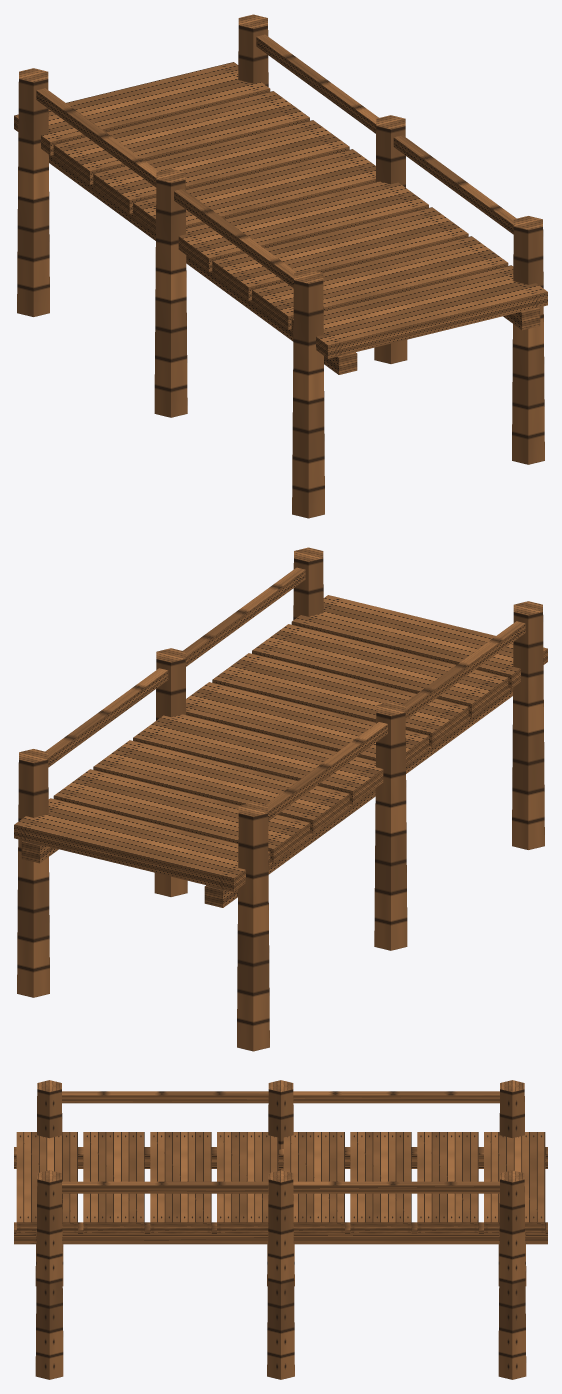
The model's file is dock.obj.
The picture shows the model from 3 angles, top to bottom: view 1: azimuth 30°, elevation 25°; view 2: azimuth 150°, elevation 25°; view 3: azimuth 270°, elevation 25°; orthographic projection. The views are drawn at different scales.
Visible parts, largest first — view 1: Dock; view 2: Dock; view 3: Dock.
Part boxes in pixels (x1,y1,x2,y2): Dock: (14,14,547,518); Dock: (14,547,547,1051); Dock: (14,1080,547,1379).
Size of the model in its own units: 1.38 by 1.22 by 3.
Materials: 2 (2 with a texture image).
